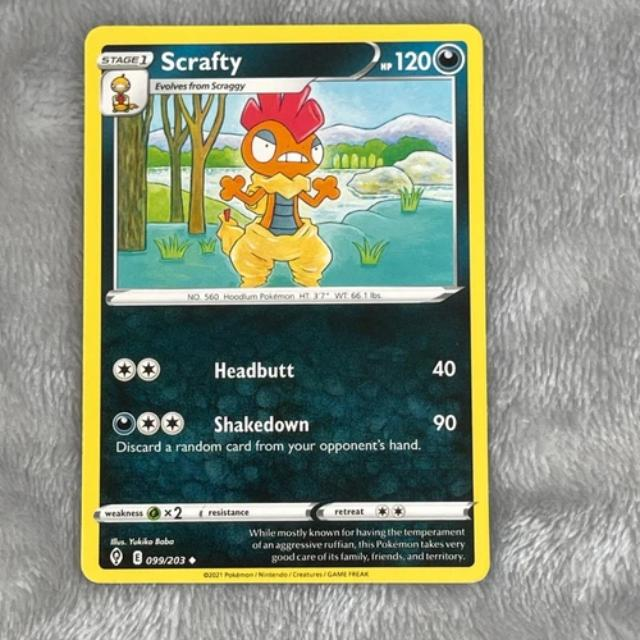Card: (73, 18, 494, 586)
Name: (151, 45, 247, 76)
